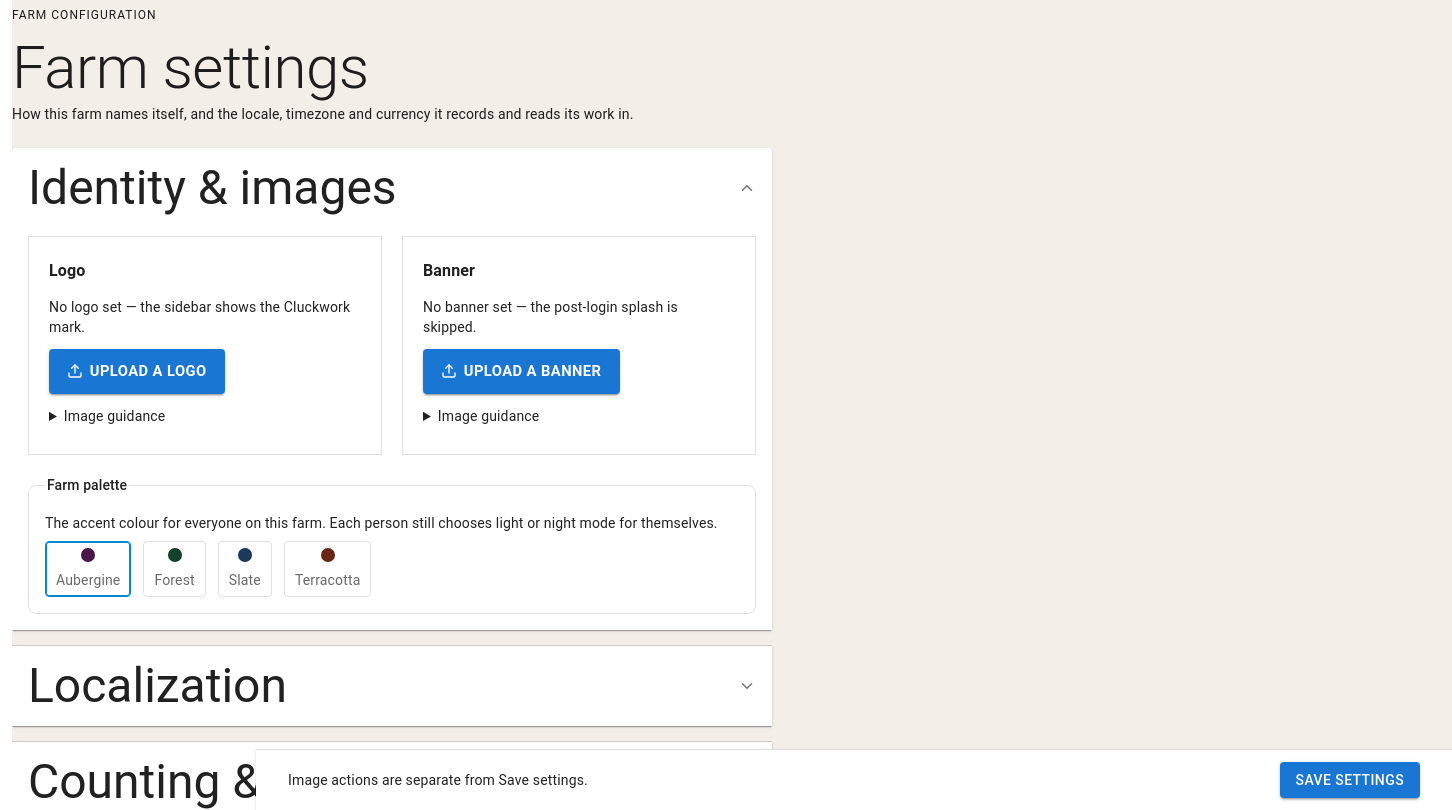
Test case: SettingsPage saving › re-reads the settings and refreshes the shell, so the change shows without a reload
Click the button "Localization". click: (157, 685)
box: [12,646,772,726]
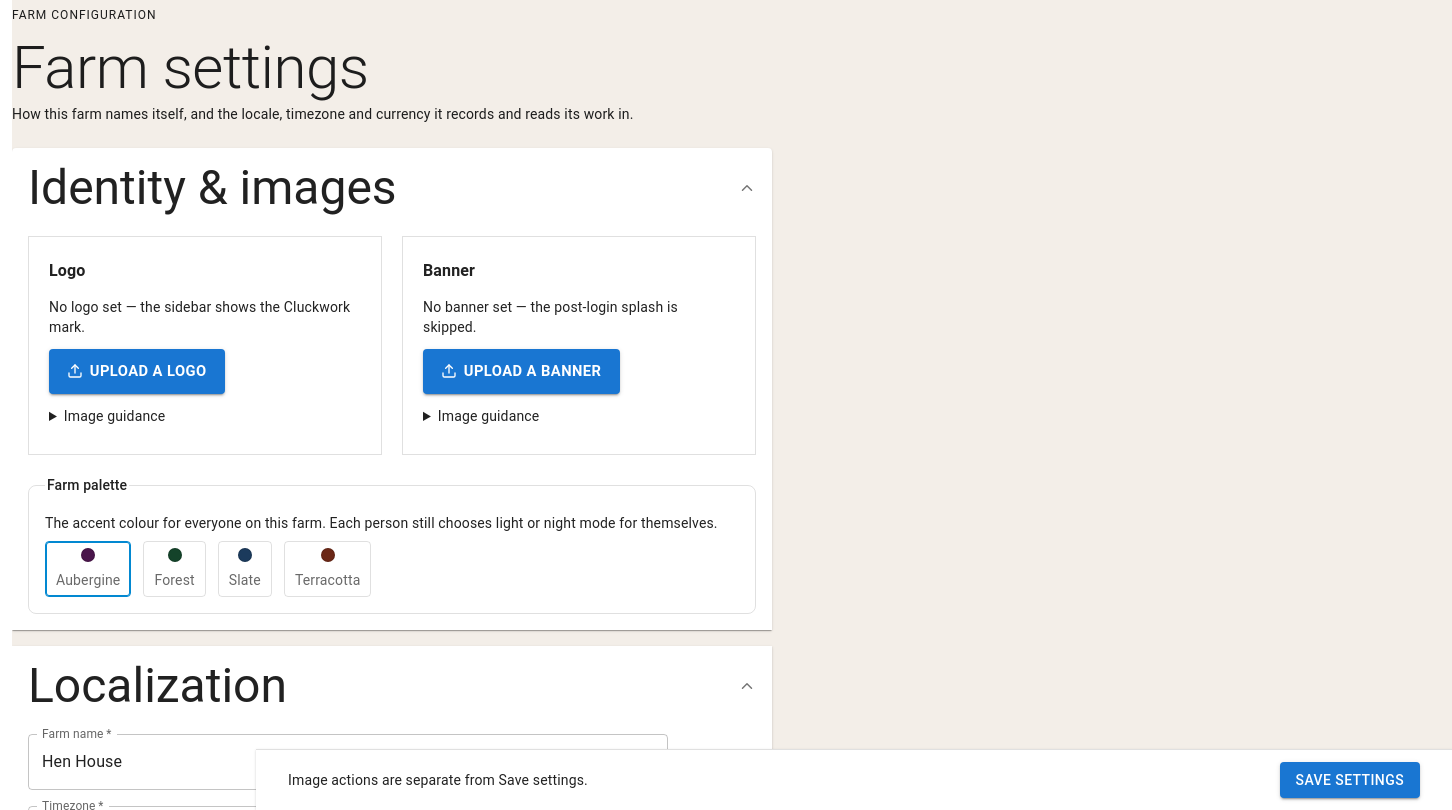
Click the button "Save settings". click: (1350, 780)
box: [1280,762,1420,798]
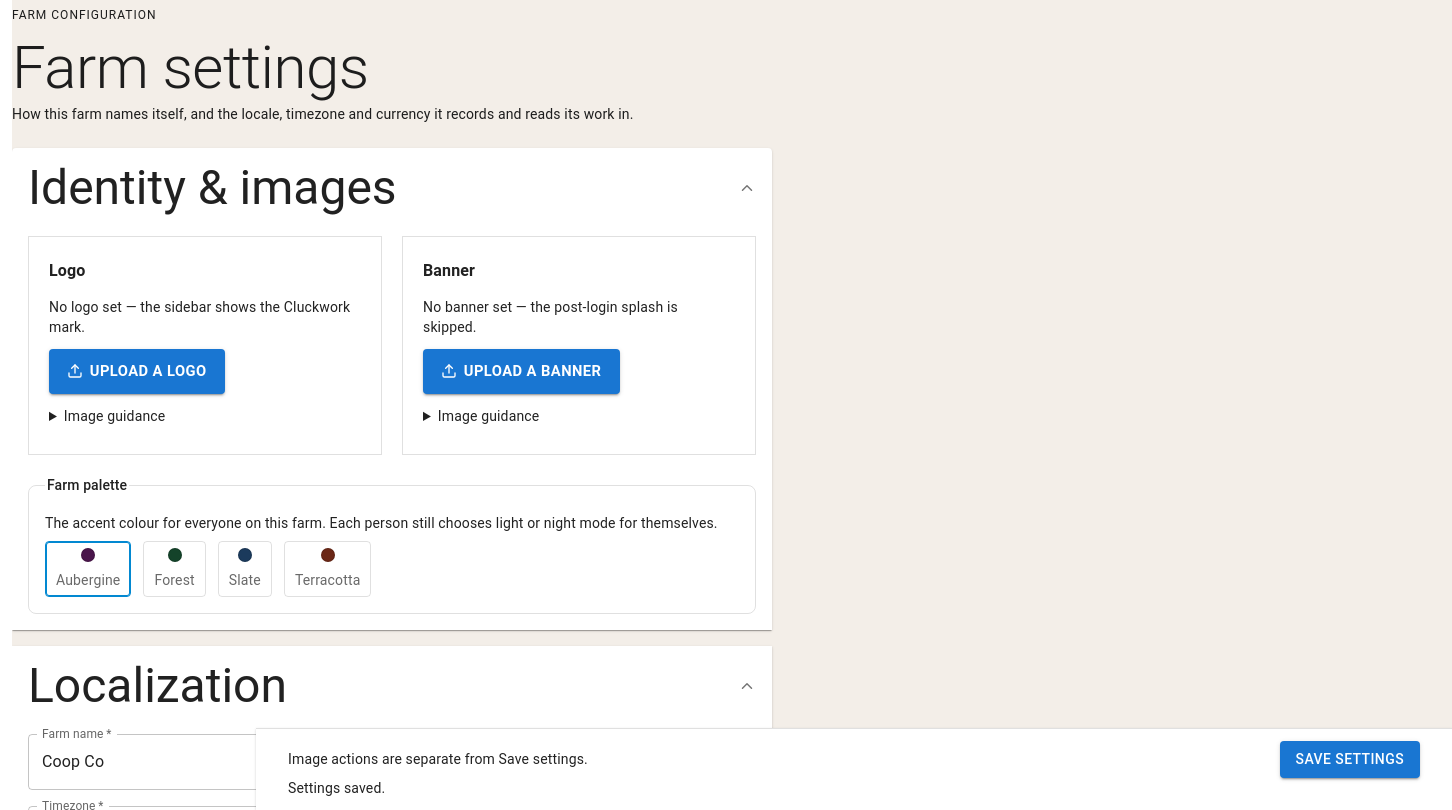
Expected: the field labelled "Farm name *" holds "Coop Co", [28,734,668,790]
